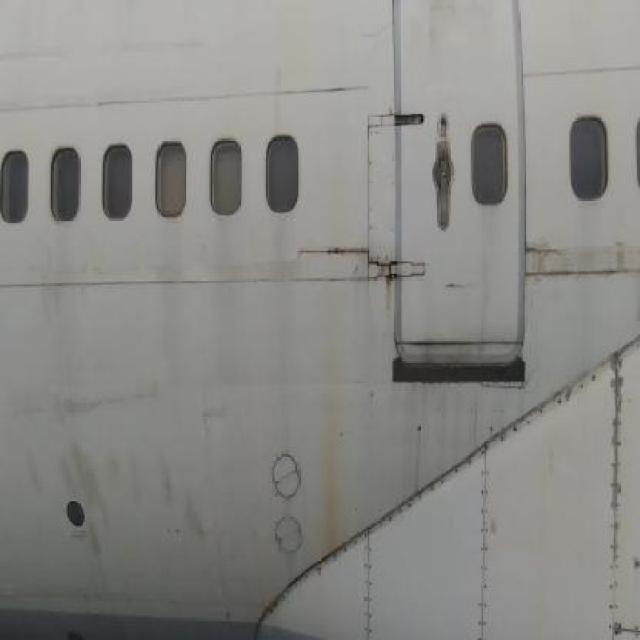Missing-Rivet: (592, 343, 633, 640), (376, 452, 473, 537), (494, 378, 586, 456), (267, 540, 351, 614), (474, 444, 492, 639), (359, 520, 379, 634)
Rust: (312, 334, 356, 544), (328, 115, 352, 252)
Scartch: (1, 436, 214, 566), (524, 218, 640, 313), (0, 382, 169, 428), (99, 31, 210, 64), (0, 33, 74, 79), (262, 65, 290, 140), (193, 389, 232, 429)
